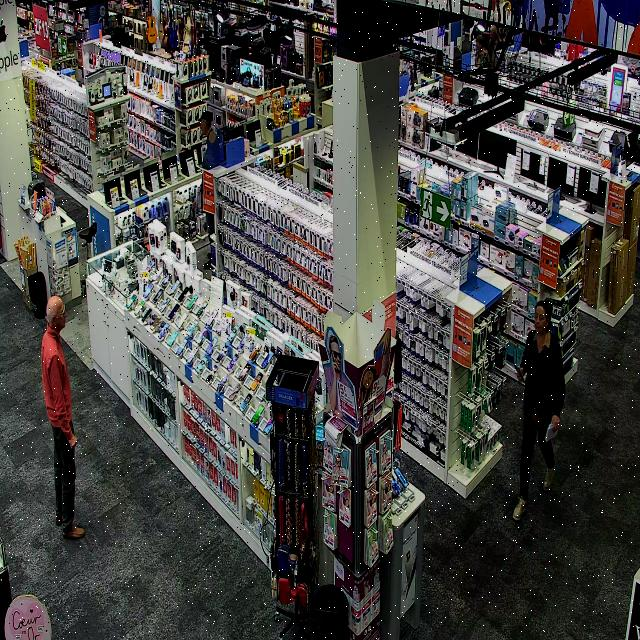article: (545, 424, 558, 441)
bags: (532, 403, 551, 433)
hands: (552, 415, 560, 431), (69, 435, 77, 448)
person: (512, 300, 565, 521), (41, 296, 85, 539)
